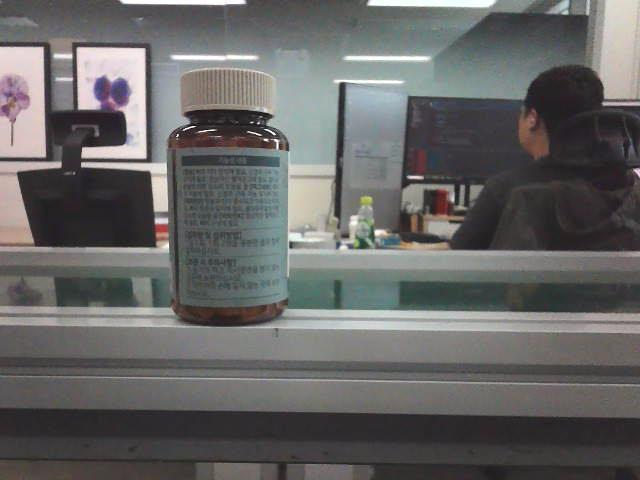labeled: (163, 64, 295, 328)
